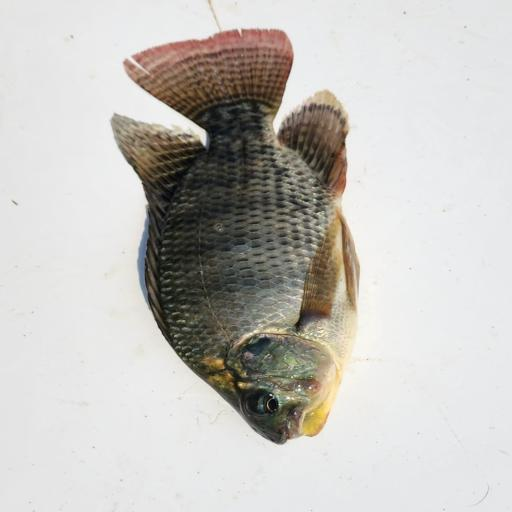Tilapia: (110, 28, 360, 446)
